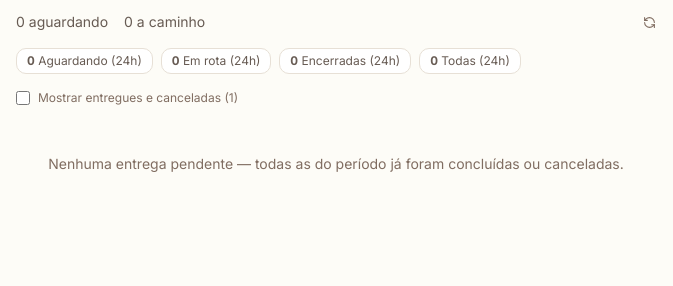
Test: DeliveriesTab — card de entrega › entrega concluída mostra também quando foi entregue
The width and height of the screenshot is (673, 286).
What coordinates should you click on to do the following:
click the checkbox labelled "Mostrar entregues e canceladas (1)"
I would click on:
 (23, 98)
Its box is [16,91,30,105].
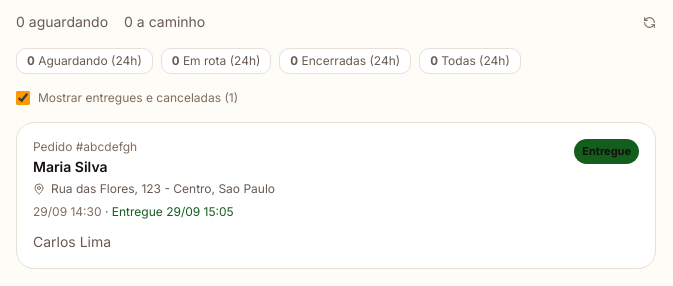
expect the element with test id "delivery-datetime" shows "29/09": met, box [33,204,102,218]
expect the element with test id "delivery-datetime" shows "14:30": met, box [33,204,102,218]
expect the element with test id "delivery-datetime" shows "Entregue": met, box [105,204,166,218]
